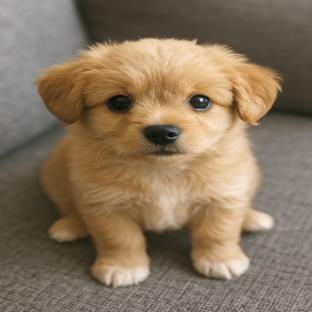Animal: (36, 38, 281, 287)
